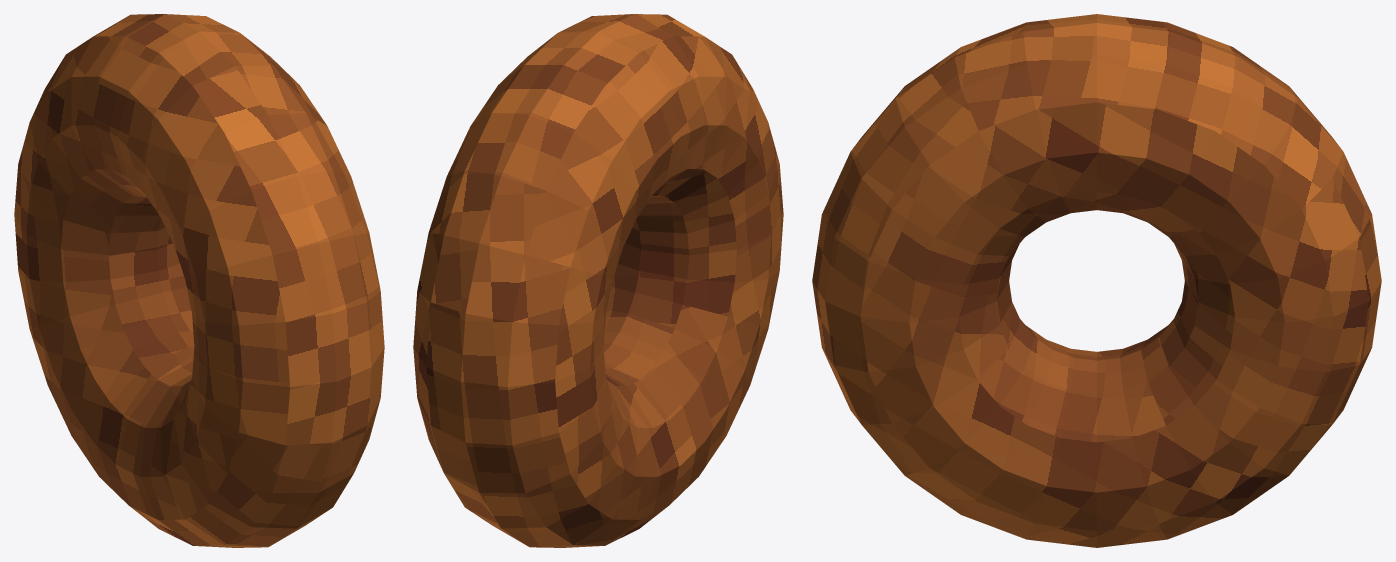
3 renders of one model, left to right at view 1: azimuth 30°, elevation 25°; view 2: azimuth 150°, elevation 25°; view 3: azimuth 270°, elevation 25°, orthographic. The views are drawn at different scales.
Parts seen in each view (by area): view 1: Torus.012; view 2: Torus.012; view 3: Torus.012.
Boxes of the visible parts, <box> form: Torus.012: <box>14,14,384,547</box>; Torus.012: <box>413,14,783,547</box>; Torus.012: <box>812,14,1381,547</box>.
Bounding box in the file's own units: 0.084 × 0.2431 × 0.2431.
Materials: 1 (1 with a texture image).
